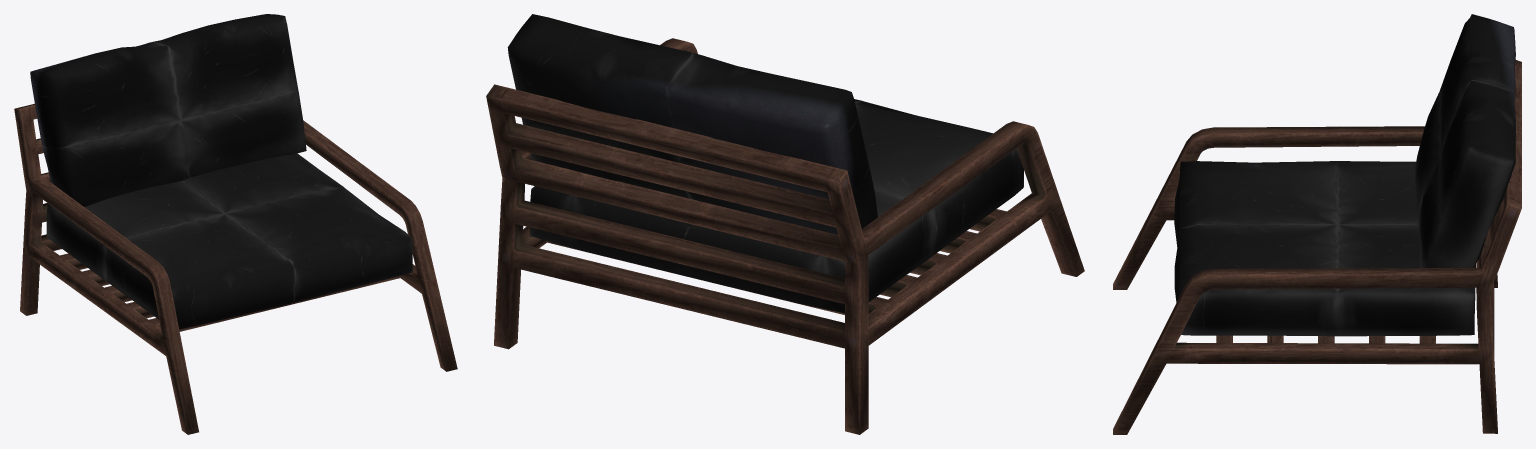
Rendered from soft_armchair.225191cc.glb.
The picture shows the model from 3 angles, left to right: view 1: azimuth 30°, elevation 25°; view 2: azimuth 150°, elevation 25°; view 3: azimuth 270°, elevation 25°; orthographic projection. The views are drawn at different scales.
Visible parts, largest first — view 1: Low (×3); view 2: Low (×3); view 3: Low (×3).
Part boxes in pixels (bbox=[...]): Low (×3): bbox=[14, 14, 457, 434]; Low (×3): bbox=[486, 14, 1084, 434]; Low (×3): bbox=[1113, 14, 1521, 434].
Size of the model in its own units: 1.15 by 0.9902 by 1.31.
Materials: 1 (1 with a texture image).
